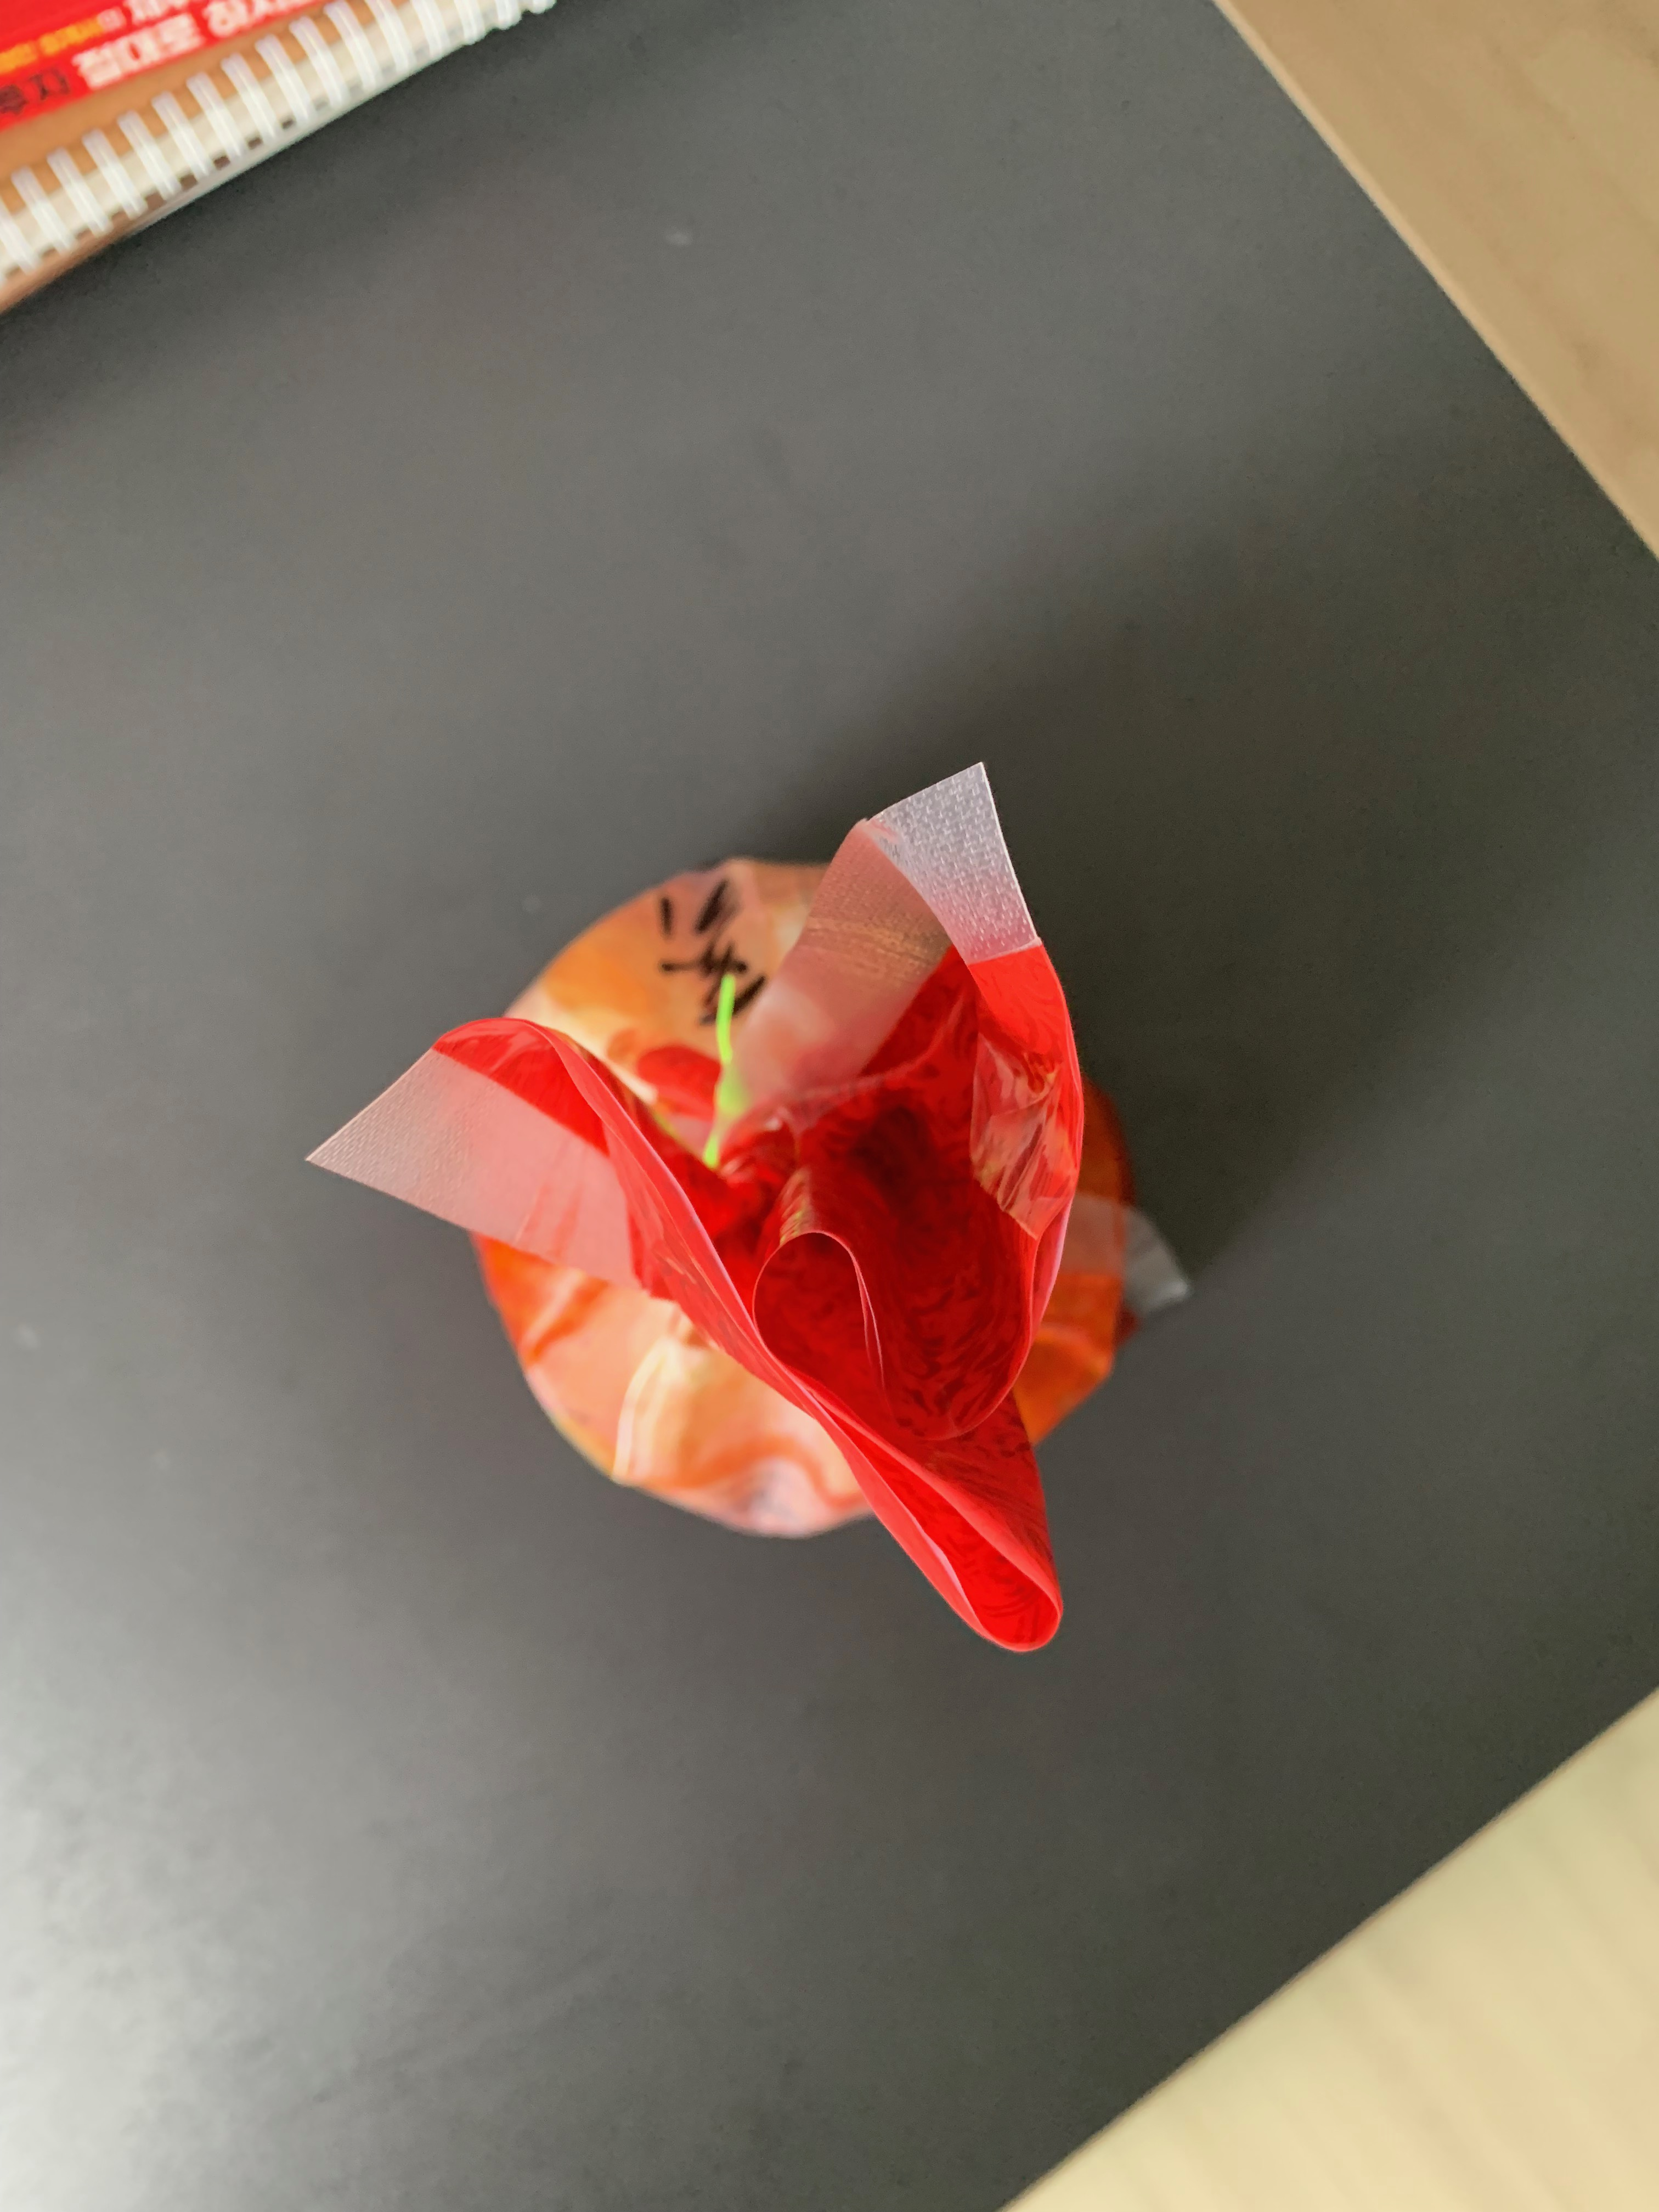kimchi: (453, 859, 1134, 1649)
